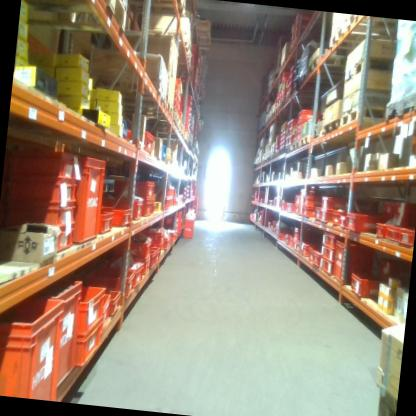pallet: (84, 74, 168, 128), (19, 0, 129, 38), (139, 25, 193, 75), (344, 50, 397, 88), (338, 99, 391, 135), (128, 92, 175, 130), (383, 84, 416, 126), (327, 17, 348, 52), (318, 117, 340, 140), (307, 54, 322, 81), (345, 14, 366, 31), (298, 132, 315, 151), (297, 70, 308, 93), (169, 107, 178, 135), (176, 120, 186, 141), (182, 128, 191, 149), (290, 137, 299, 156), (284, 86, 292, 106), (278, 96, 285, 112), (284, 143, 291, 158), (277, 145, 284, 160), (275, 102, 281, 112), (269, 151, 274, 160)
small_load_carrier: (0, 292, 67, 400), (44, 274, 84, 384), (4, 172, 81, 213), (7, 143, 81, 184), (73, 154, 106, 245), (4, 199, 76, 233), (331, 241, 376, 288), (77, 281, 107, 335), (74, 314, 105, 365), (349, 271, 392, 302), (95, 269, 134, 301), (103, 192, 144, 220), (112, 178, 154, 201), (378, 257, 409, 283), (116, 237, 150, 259), (345, 212, 379, 231), (321, 195, 349, 214), (124, 130, 154, 147), (375, 219, 397, 241), (57, 227, 74, 254), (386, 225, 407, 245), (111, 206, 130, 228), (394, 202, 416, 220), (126, 263, 144, 284), (301, 193, 326, 208), (99, 206, 112, 234), (319, 243, 339, 260), (322, 233, 344, 248), (101, 292, 111, 324), (183, 216, 197, 238), (392, 216, 414, 230), (399, 227, 414, 247), (110, 291, 121, 317), (337, 212, 353, 229), (332, 210, 347, 228), (319, 256, 335, 272), (149, 229, 165, 245), (311, 252, 325, 270), (296, 108, 313, 122), (380, 201, 395, 215), (294, 223, 310, 236), (307, 247, 319, 264), (148, 246, 160, 263), (175, 210, 183, 235), (296, 120, 312, 131), (142, 201, 152, 218), (320, 209, 333, 222), (302, 205, 317, 216), (158, 237, 170, 250), (314, 207, 325, 221), (302, 245, 313, 257), (140, 255, 148, 270), (293, 193, 302, 205), (291, 237, 308, 243), (292, 204, 302, 214), (167, 231, 175, 243), (288, 232, 293, 246), (292, 240, 298, 250)
